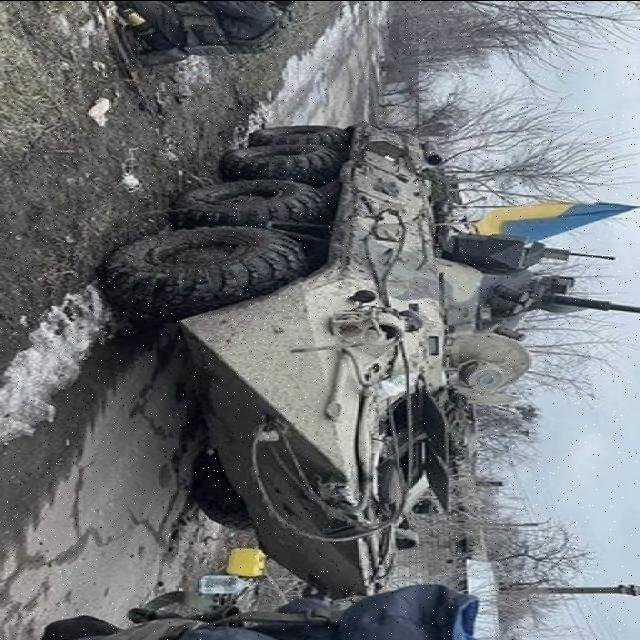APC-IFV: (96, 119, 586, 600)
